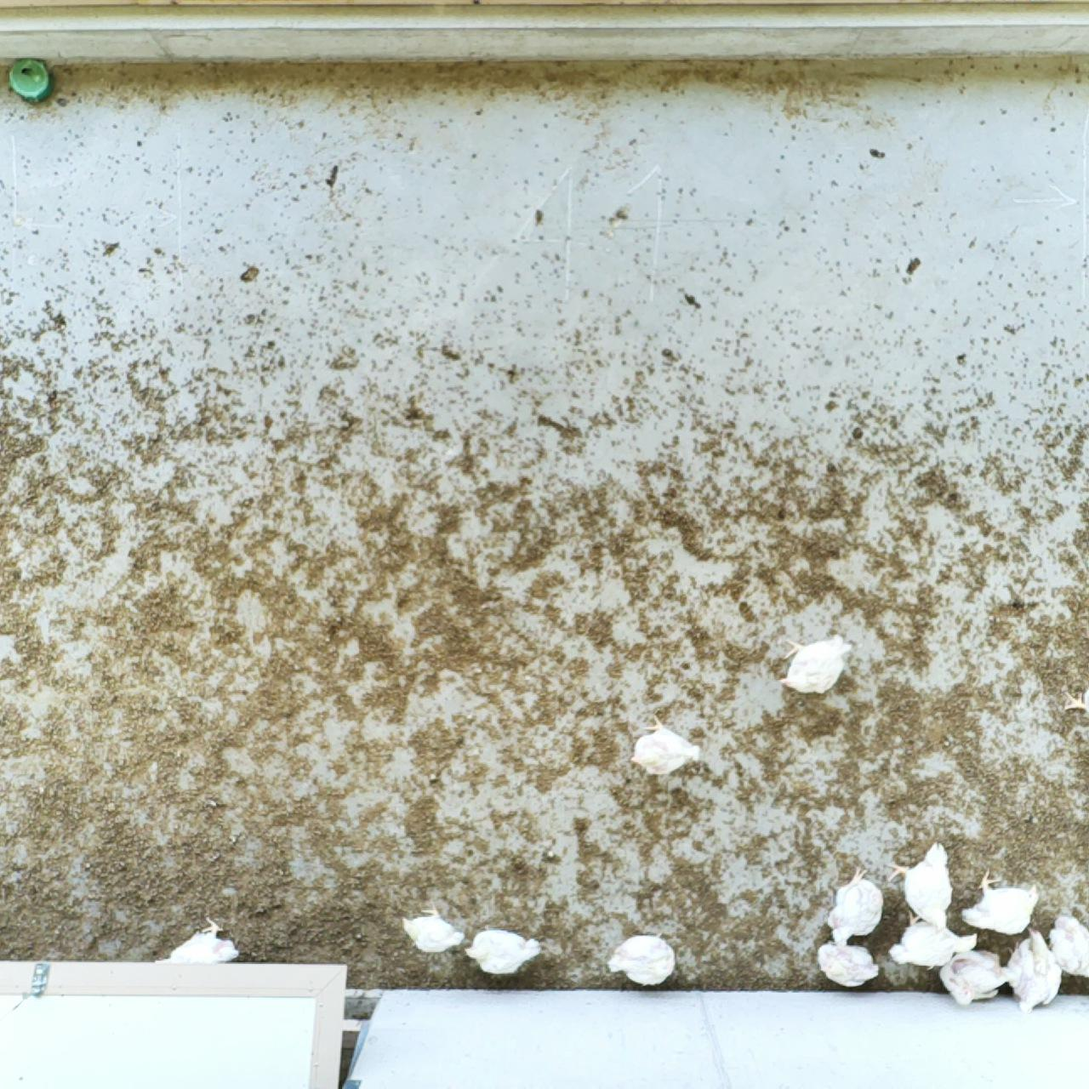chicken: (886, 912, 979, 973), (892, 839, 952, 930), (1001, 925, 1063, 1013), (957, 867, 1041, 931), (824, 862, 885, 946), (780, 631, 856, 697), (626, 716, 704, 780), (163, 910, 248, 968), (939, 946, 1012, 1004), (608, 928, 678, 988), (465, 925, 545, 976), (399, 905, 466, 957), (817, 938, 880, 990), (1046, 907, 1089, 978)
